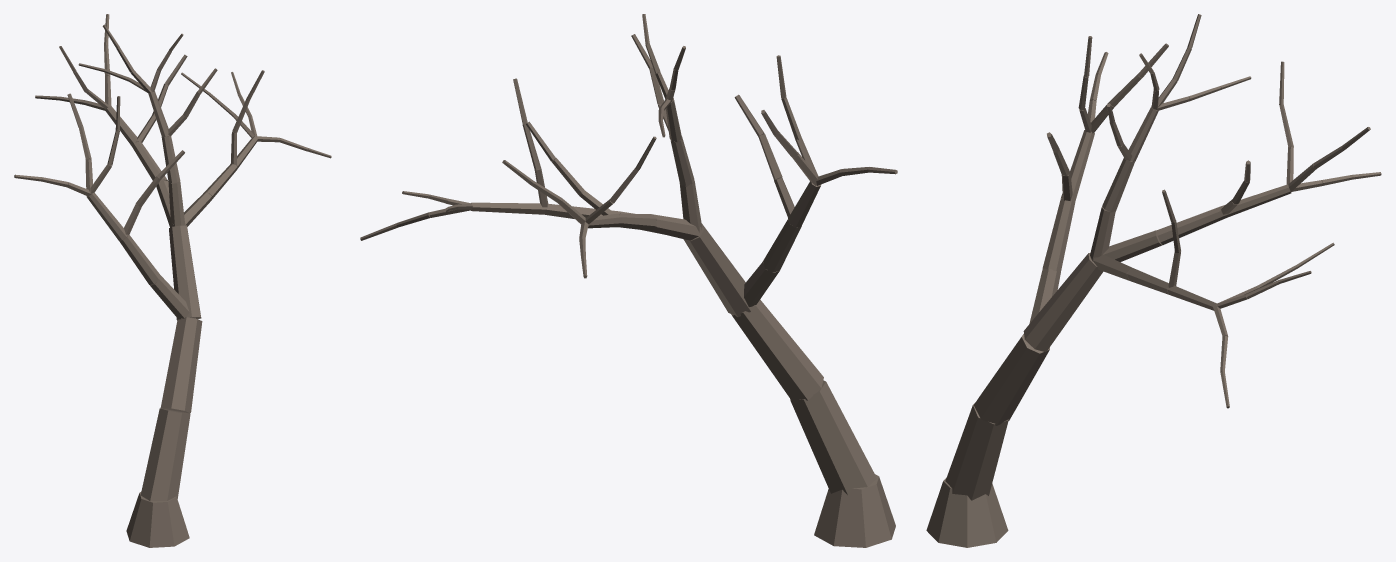
Rendered from dead_tree_medium.glb.
3 renders of one model, left to right at view 1: azimuth 30°, elevation 25°; view 2: azimuth 150°, elevation 25°; view 3: azimuth 270°, elevation 25°, orthographic. The views are drawn at different scales.
Visible parts, largest first — view 1: bark; view 2: bark; view 3: bark.
Boxes of the visible parts, left/top/right/bottom form: bark: left=14, top=14, right=331, bottom=547; bark: left=360, top=14, right=897, bottom=547; bark: left=926, top=14, right=1381, bottom=547.
Bounding box in the file's own units: 4.81 × 5.44 × 4.15.
